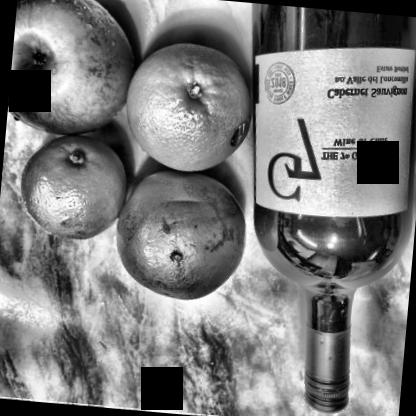G7: (256, 32, 415, 222)
